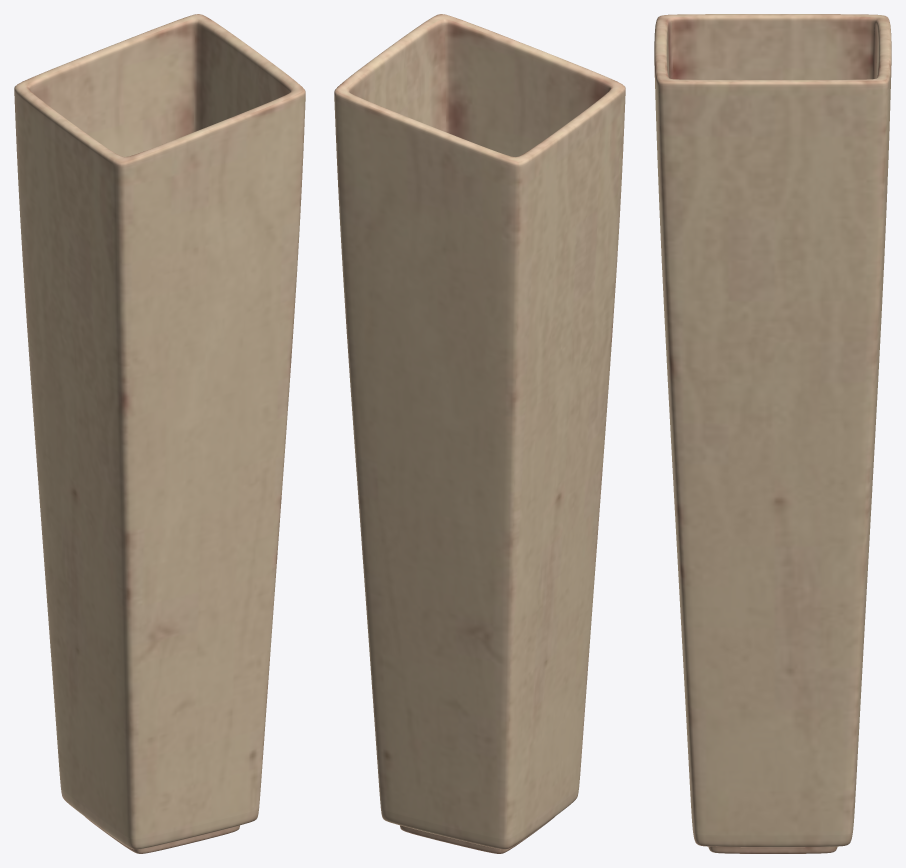
The model's file is ceramic_vase_03.glb.
The picture shows the model from 3 angles, left to right: view 1: azimuth 30°, elevation 25°; view 2: azimuth 150°, elevation 25°; view 3: azimuth 270°, elevation 25°; orthographic projection. The views are drawn at different scales.
Visible parts, largest first — view 1: ceramic_vase_03; view 2: ceramic_vase_03; view 3: ceramic_vase_03.
Part boxes in pixels (<box>): ceramic_vase_03: <box>14,14,305,853</box>; ceramic_vase_03: <box>334,14,625,853</box>; ceramic_vase_03: <box>654,14,891,853</box>.
Size of the model in its own units: 0.1122 by 0.4144 by 0.1122.
Materials: 1 (1 with a texture image).
